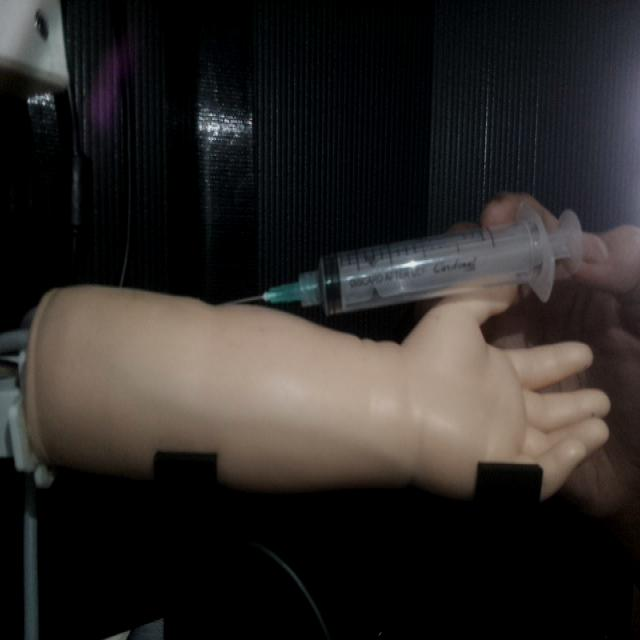Below 15 degrees: (228, 200, 586, 319)
